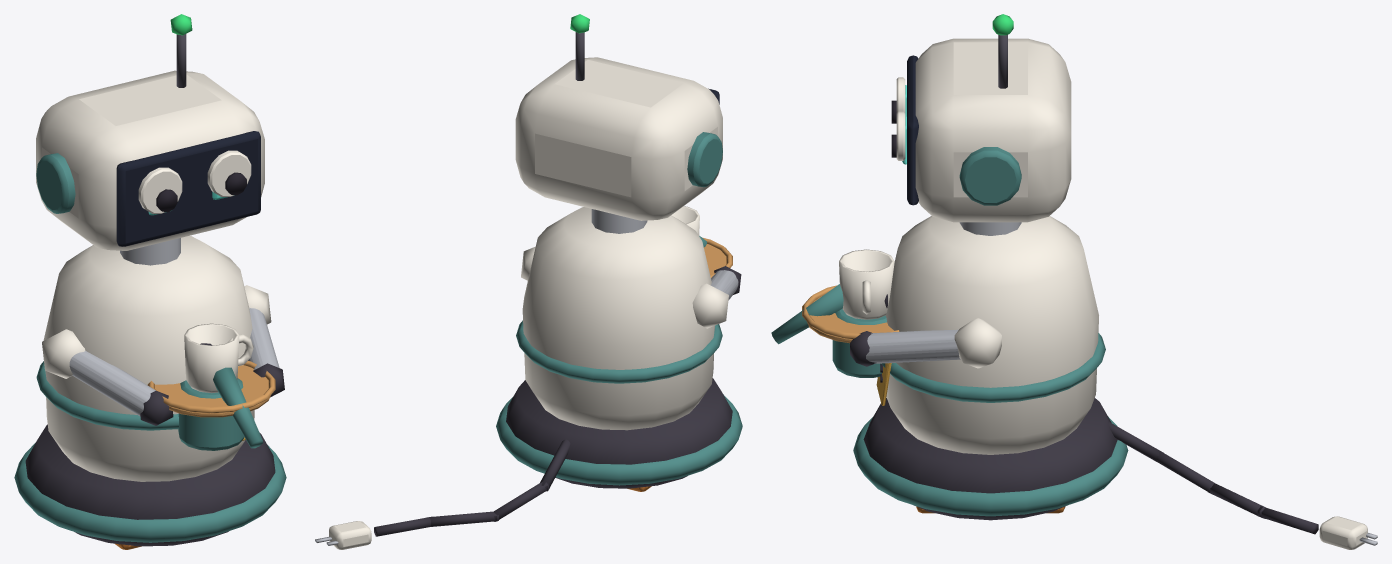
Rendered from robot.glb.
3 views of the same model, side by side, from view 1: azimuth 30°, elevation 25°; view 2: azimuth 150°, elevation 25°; view 3: azimuth 270°, elevation 25° (orthographic). The views are drawn at different scales.
Parts seen in each view (by area): view 1: robot_body, robot_head, robot_base, robot_can, robot_cup, robot_googly, robot_tray, robot_led; view 2: robot_body, robot_head, robot_base, robot_cable, robot_tray; view 3: robot_body, robot_head, robot_base, robot_cable, robot_cup, robot_can, robot_tray, robot_googly.
Part boxes in pixels (x1,y1,x2,y2): robot_body: (36,235,284,481); robot_head: (36,34,264,250); robot_base: (14,424,286,546); robot_can: (178,367,263,450); robot_cup: (184,323,253,393); robot_googly: (138,150,251,213); robot_tray: (147,361,275,417); robot_led: (170,14,192,35); robot_body: (516,207,741,430); robot_head: (515,32,722,220); robot_base: (496,378,742,488); robot_cable: (315,439,570,549); robot_tray: (702,237,732,277); robot_body: (850,216,1105,454); robot_head: (907,35,1071,222); robot_base: (853,398,1128,520); robot_cable: (1108,422,1377,549); robot_cup: (839,249,894,319); robot_can: (771,284,886,377); robot_tray: (802,285,899,343); robot_googly: (891,77,905,160).
Bounding box in the file's own units: 0.4959 × 0.87 × 0.9788.
